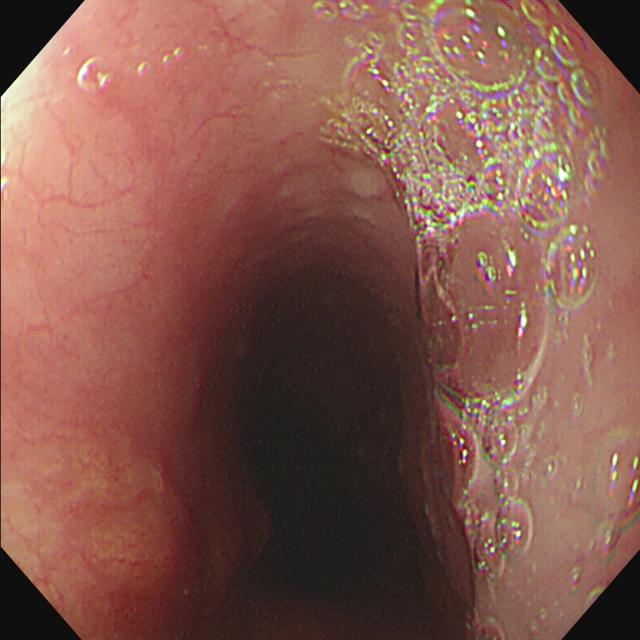T: (316, 2, 515, 240), (516, 2, 610, 310), (451, 419, 532, 580)
U: (438, 380, 525, 419), (630, 457, 640, 508), (611, 453, 619, 496)
